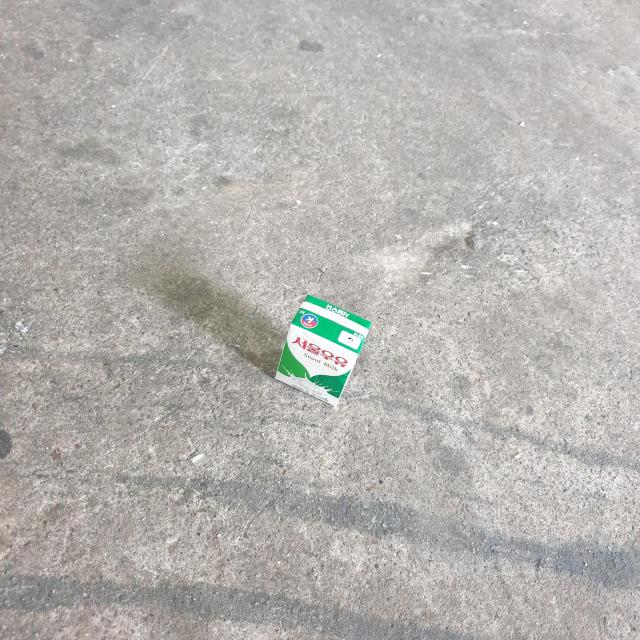paperpack: (276, 295, 372, 406)
